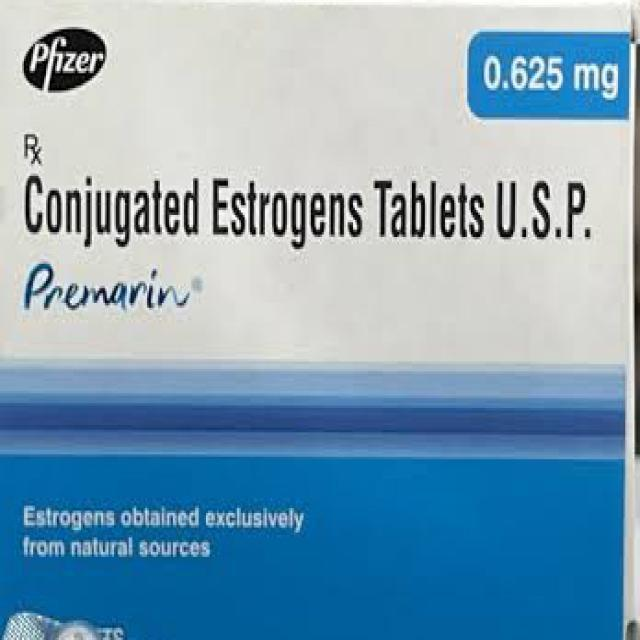drug-name: (24, 258, 194, 319)
